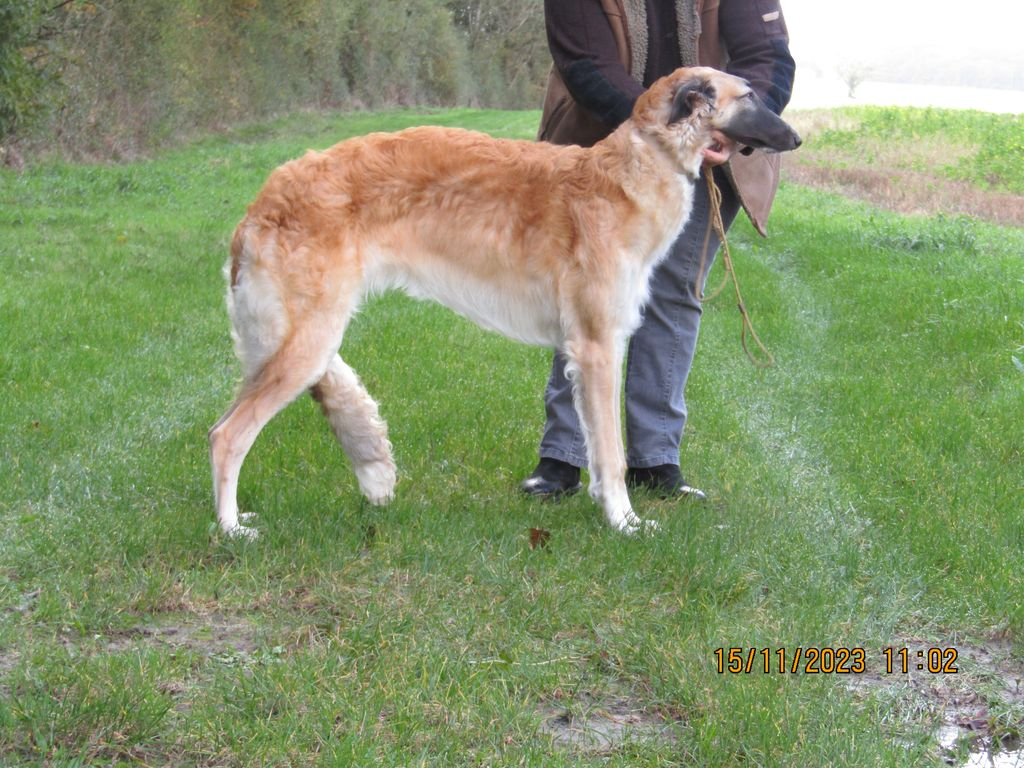borzoi: (176, 65, 822, 547)
